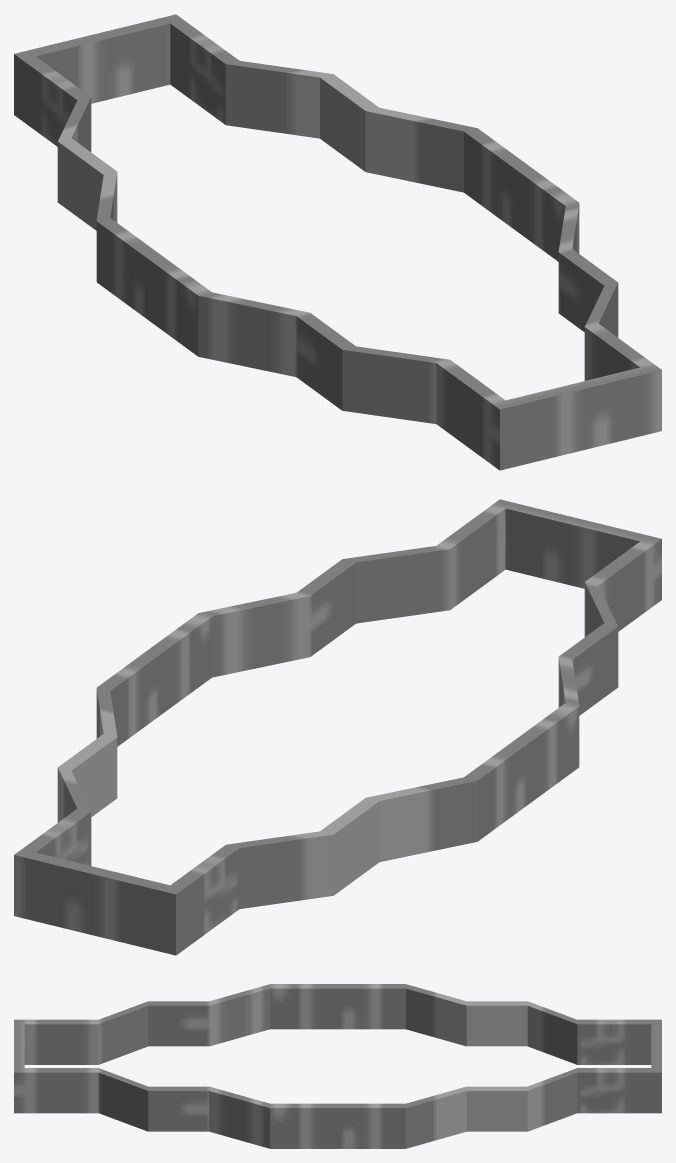
The model's file is prop_Wall_EM_B.fbx.
The picture shows the model from 3 angles, top to bottom: view 1: azimuth 30°, elevation 25°; view 2: azimuth 150°, elevation 25°; view 3: azimuth 270°, elevation 25°; orthographic projection. The views are drawn at different scales.
Visible parts, largest first — view 1: prop_Wall_EM_B; view 2: prop_Wall_EM_B; view 3: prop_Wall_EM_B.
Boxes of the visible parts, box(x1,y1,x2,y2) form: prop_Wall_EM_B: box(14, 14, 661, 470); prop_Wall_EM_B: box(14, 499, 661, 955); prop_Wall_EM_B: box(14, 984, 661, 1148).
Size of the model in its own units: 4132 by 633 by 9126.
